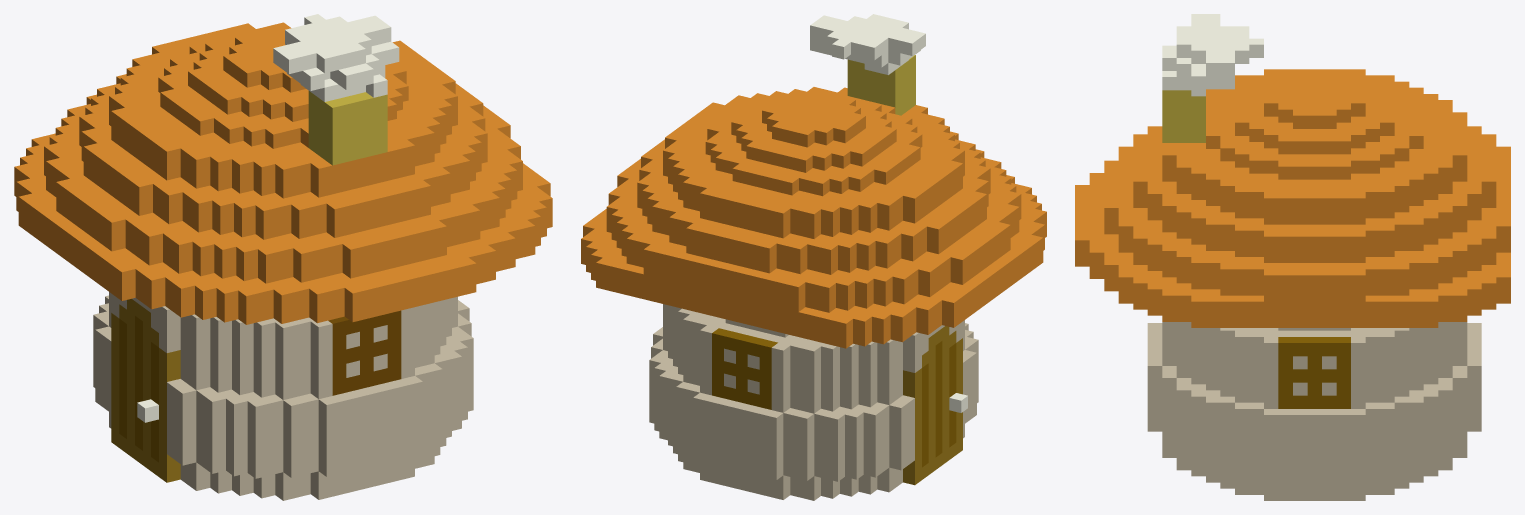
The model's file is mushroom.fbx.
3 renders of one model, left to right at view 1: azimuth 30°, elevation 25°; view 2: azimuth 150°, elevation 25°; view 3: azimuth 270°, elevation 25°, orthographic. The views are drawn at different scales.
Parts seen in each view (by area): view 1: mushroom; view 2: mushroom; view 3: mushroom.
Boxes of the visible parts, left/top/right/bottom form: mushroom: left=14, top=14, right=552, bottom=500; mushroom: left=581, top=14, right=1046, bottom=500; mushroom: left=1075, top=14, right=1510, bottom=500.
Size of the model in its own units: 3000 by 3000 by 3000.
